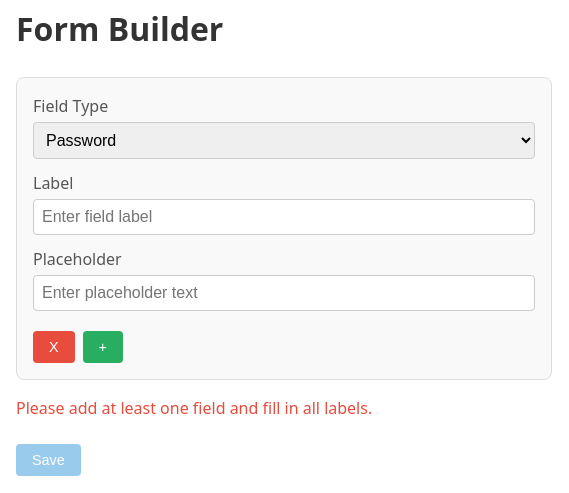
Test: Form Builder › should display the configured field in Generated Form
Type "Username" into the field with placeholder "Enter field label" at [284, 217], box x1=33 y1=199 x2=535 y2=235
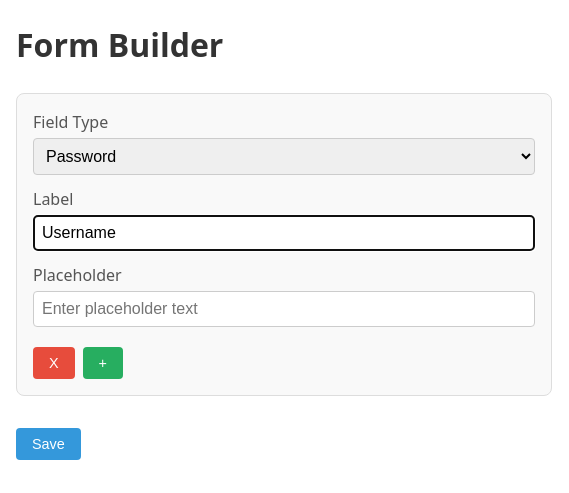
Type "Enter username" into the field with placeholder "Enter placeholder text" at [284, 309], box x1=33 y1=291 x2=535 y2=327
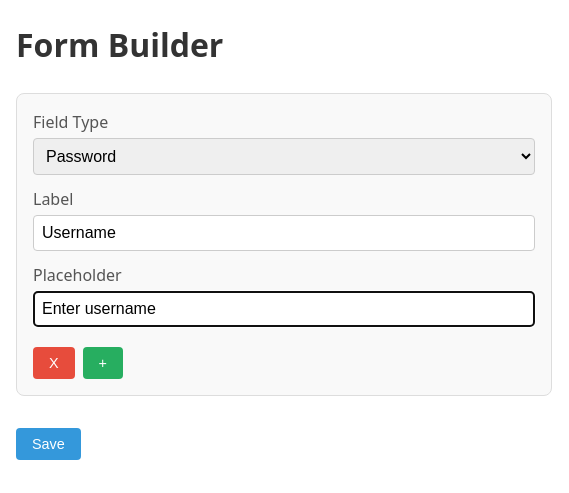
Click the button "Save" at [49, 444], box x1=16 y1=428 x2=81 y2=460
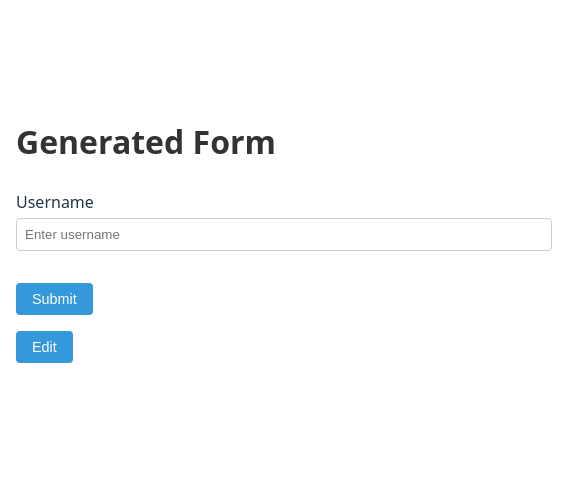
Result: the text "Username" is shown at x1=16 y1=190 x2=94 y2=212
Result: the password field with placeholder "Enter username" is shown at x1=16 y1=218 x2=552 y2=251
